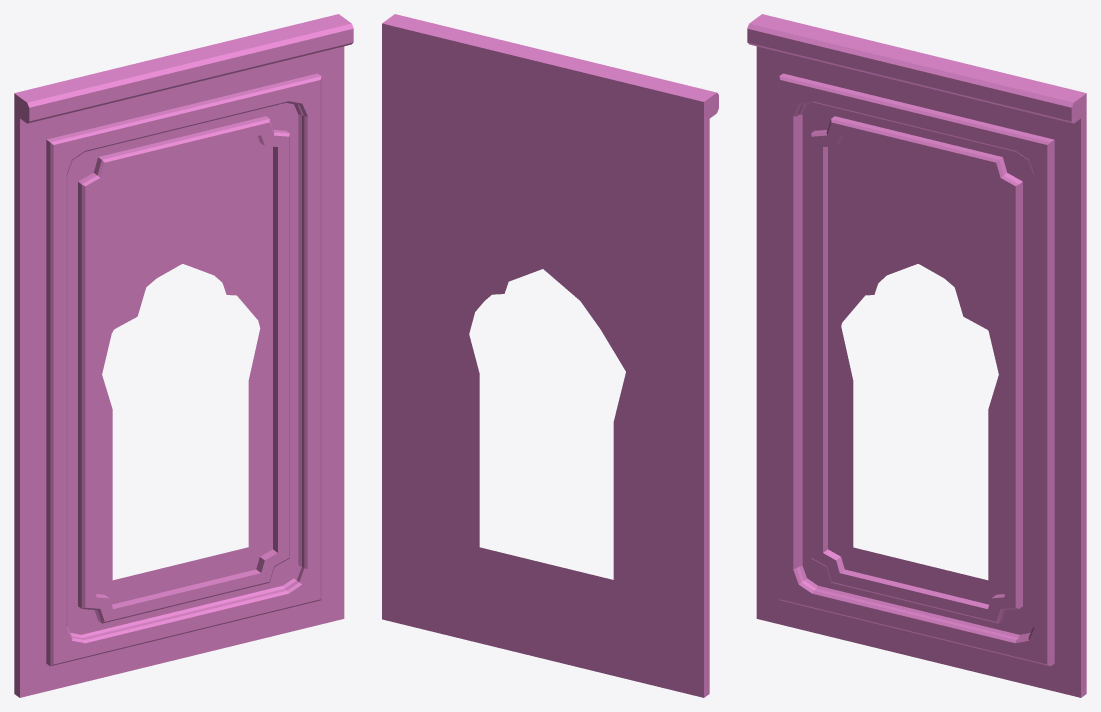
The model's file is ENV_HAU_WALLWINDOW_MODEL.fbx.
3 renders of one model, left to right at view 1: azimuth 30°, elevation 25°; view 2: azimuth 150°, elevation 25°; view 3: azimuth 330°, elevation 25°, orthographic.
Visible parts, largest first — view 1: ENV_HAU_WALLWINDOW_MODEL; view 2: ENV_HAU_WALLWINDOW_MODEL; view 3: ENV_HAU_WALLWINDOW_MODEL.
Part boxes in pixels (<box>): ENV_HAU_WALLWINDOW_MODEL: <box>14,14,353,697</box>; ENV_HAU_WALLWINDOW_MODEL: <box>382,14,718,697</box>; ENV_HAU_WALLWINDOW_MODEL: <box>747,14,1086,697</box>.
Size of the model in its own units: 100 by 177 by 8.02.
